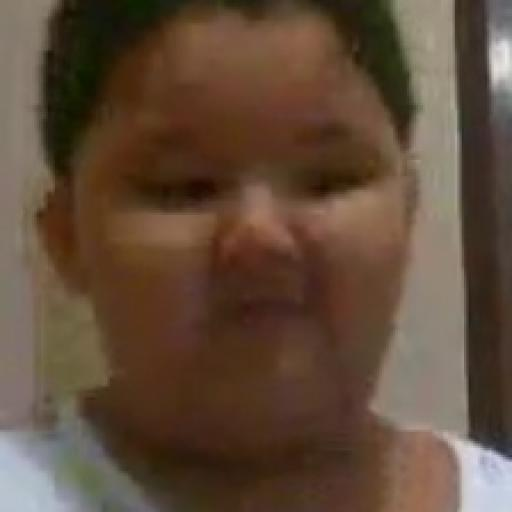Autism: (9, 0, 503, 457)
